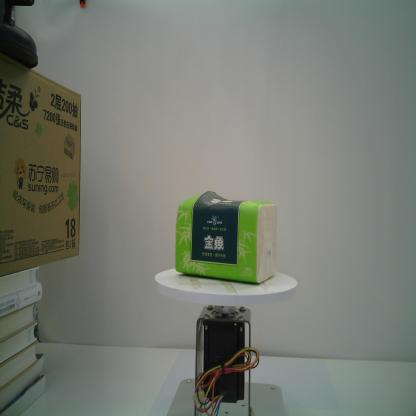Tissue: (175, 191, 278, 284)
